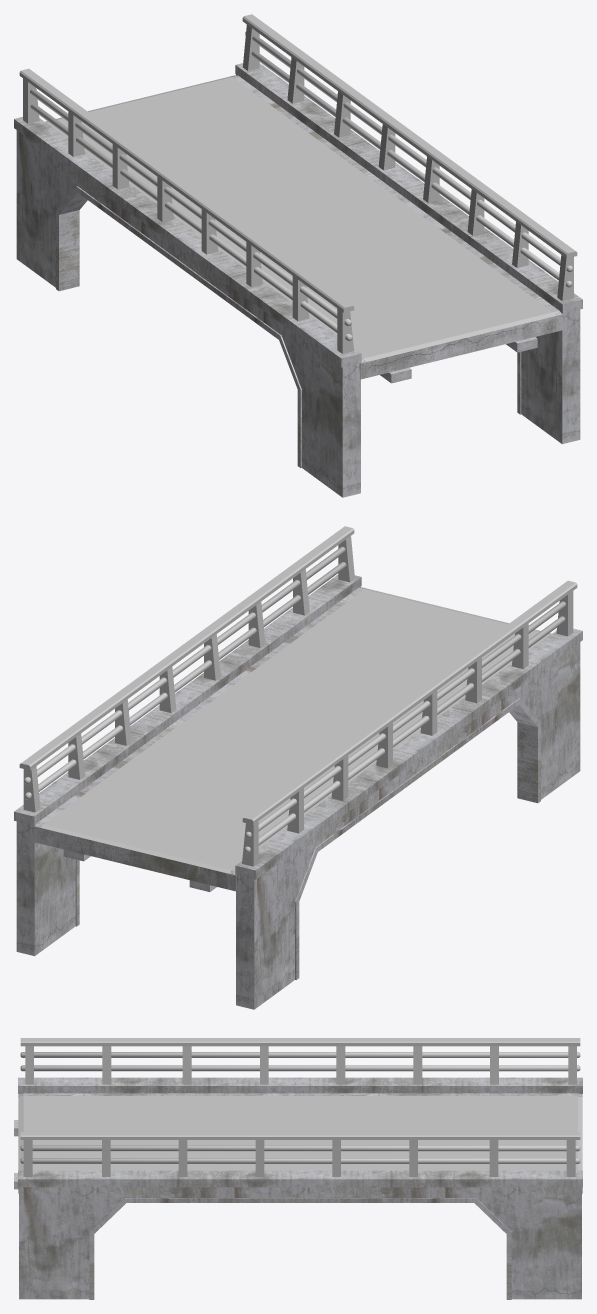
The model's file is BB_020_L1_Bridge01b.fbx.
3 renders of one model, top to bottom at view 1: azimuth 30°, elevation 25°; view 2: azimuth 150°, elevation 25°; view 3: azimuth 270°, elevation 25°, orthographic. The views are drawn at different scales.
Visible parts, largest first — view 1: BB_020_L1_Bridge01b; view 2: BB_020_L1_Bridge01b; view 3: BB_020_L1_Bridge01b.
Part boxes in pixels (x1,y1,x2,y2): BB_020_L1_Bridge01b: (14, 14, 582, 497); BB_020_L1_Bridge01b: (14, 526, 582, 1009); BB_020_L1_Bridge01b: (14, 1038, 582, 1299).
Bounding box in the file's own units: 5.79 × 4.32 × 13.68.
